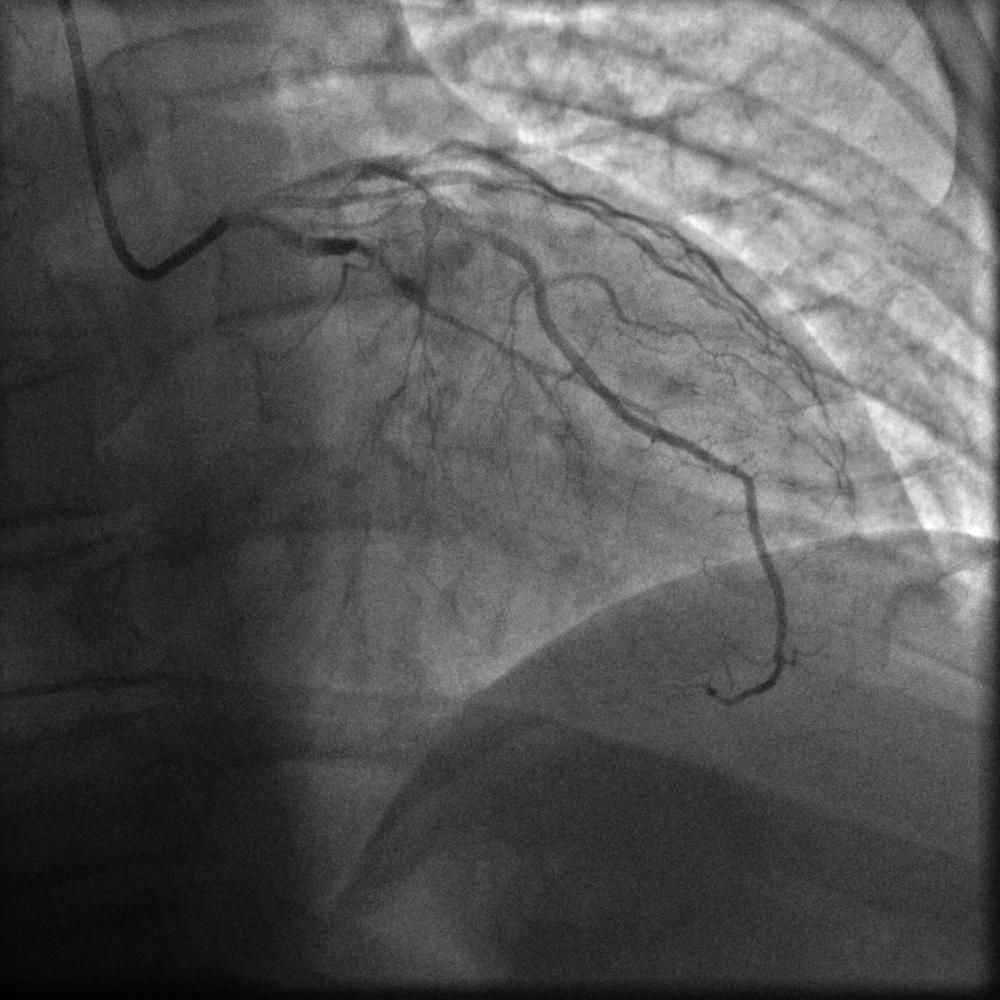Stenosis: (350, 238, 407, 294)
